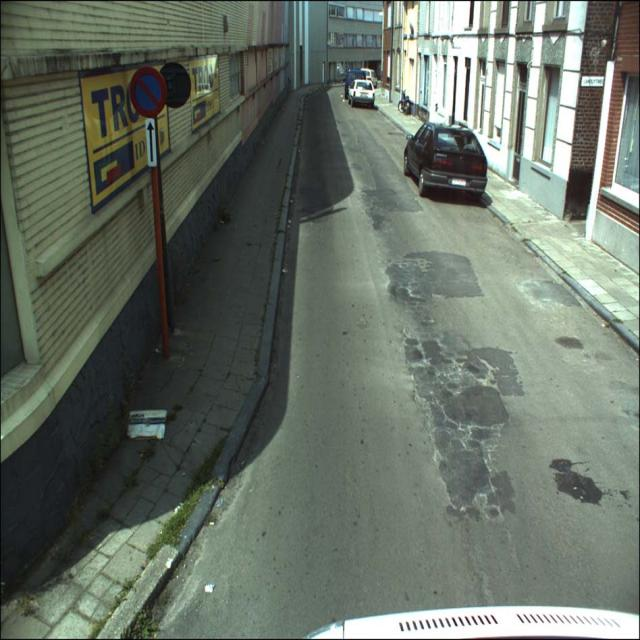parkyasak: (129, 68, 165, 118)
